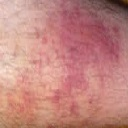Cellulitis: (58, 8, 124, 91)
